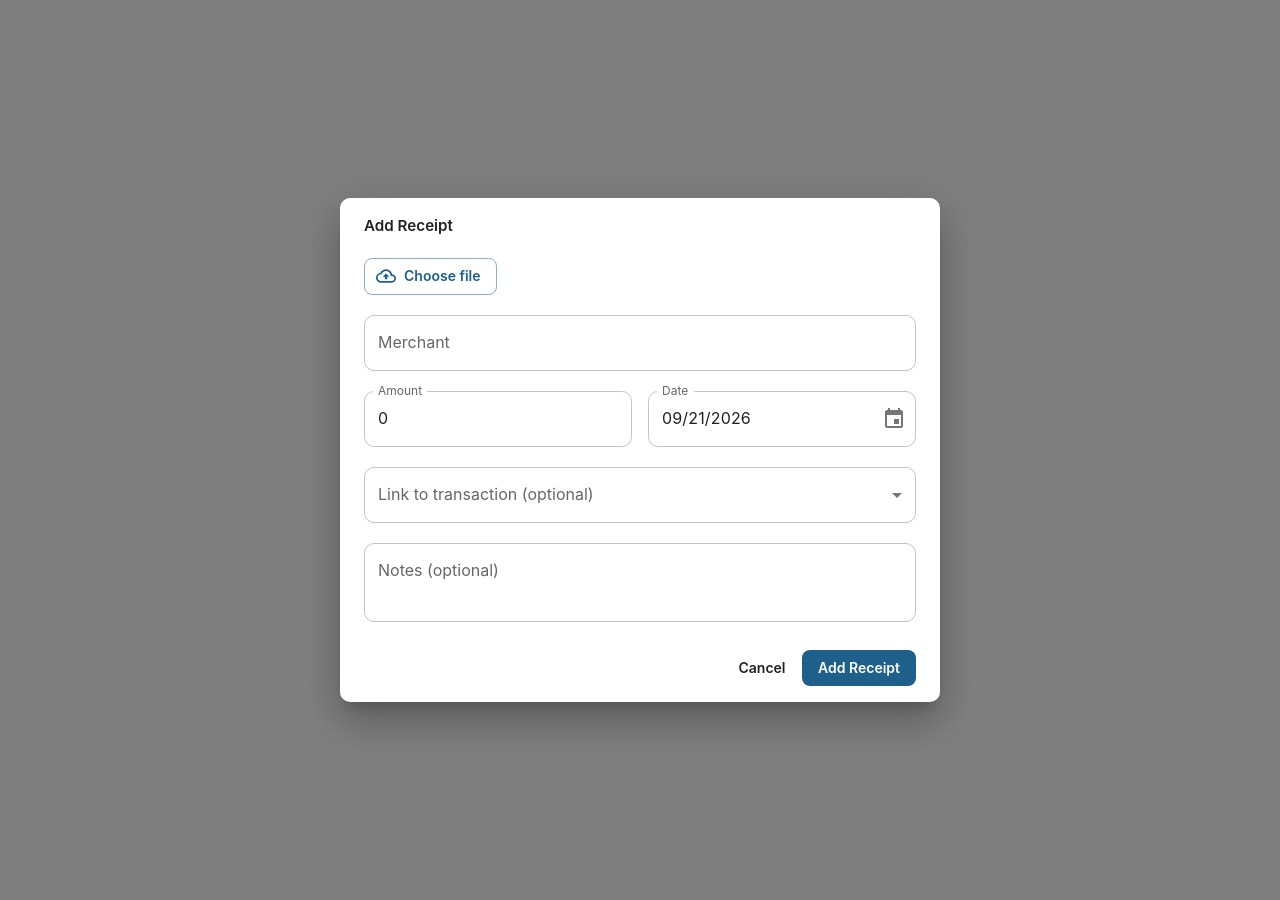
Test: ReceiptFormDialog › defaults the transaction link to "No linked transaction" and offers the given transactions
Press the mouse on the dropdown named "Link to transaction (optional)" at point(640, 495), box x1=364 y1=467 x2=916 y2=523
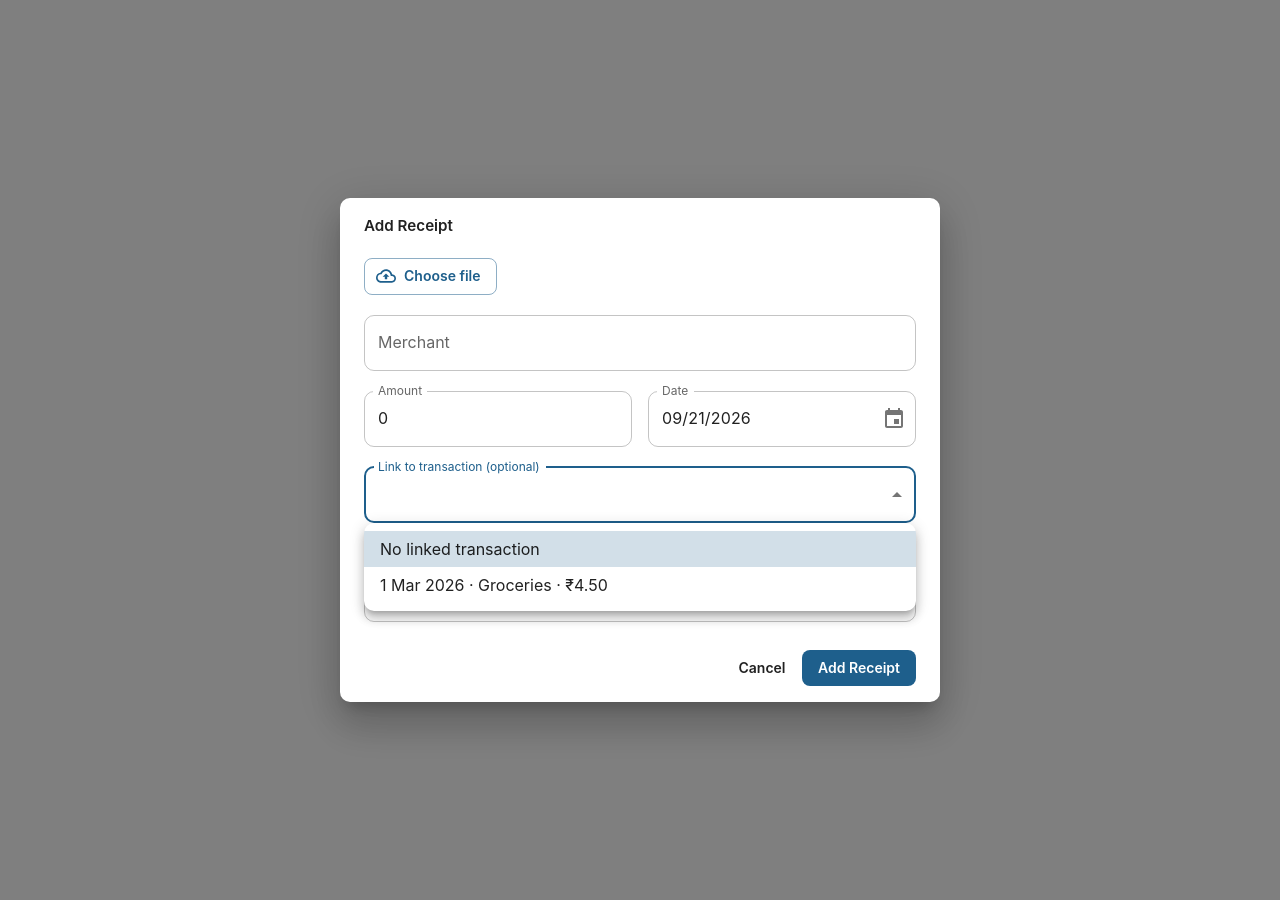
Result: the option "No linked transaction" is shown at x1=364 y1=531 x2=916 y2=567
Result: the option "1 Mar 2026 · Groceries · ₹4.50" is shown at x1=380 y1=575 x2=608 y2=595
